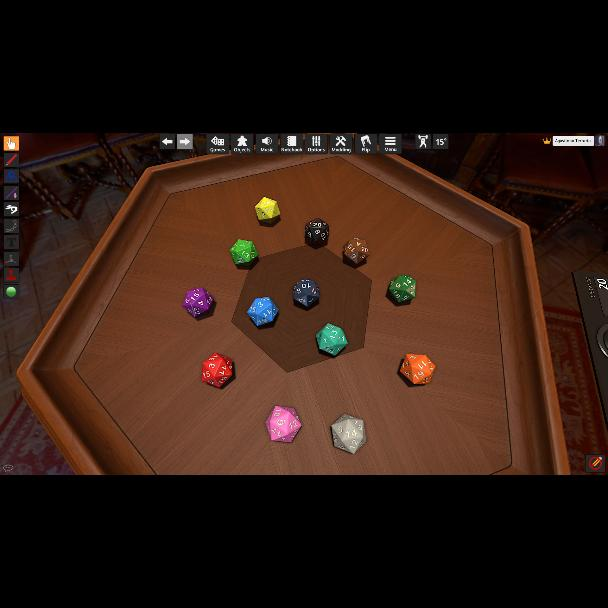d20: (330, 413, 366, 453), (266, 406, 302, 442), (200, 352, 230, 386), (246, 298, 278, 328), (316, 323, 346, 354), (182, 288, 212, 318), (400, 353, 430, 383), (292, 280, 319, 308), (388, 274, 414, 302), (342, 238, 368, 266), (229, 240, 256, 266), (254, 197, 280, 223), (305, 218, 329, 246)
